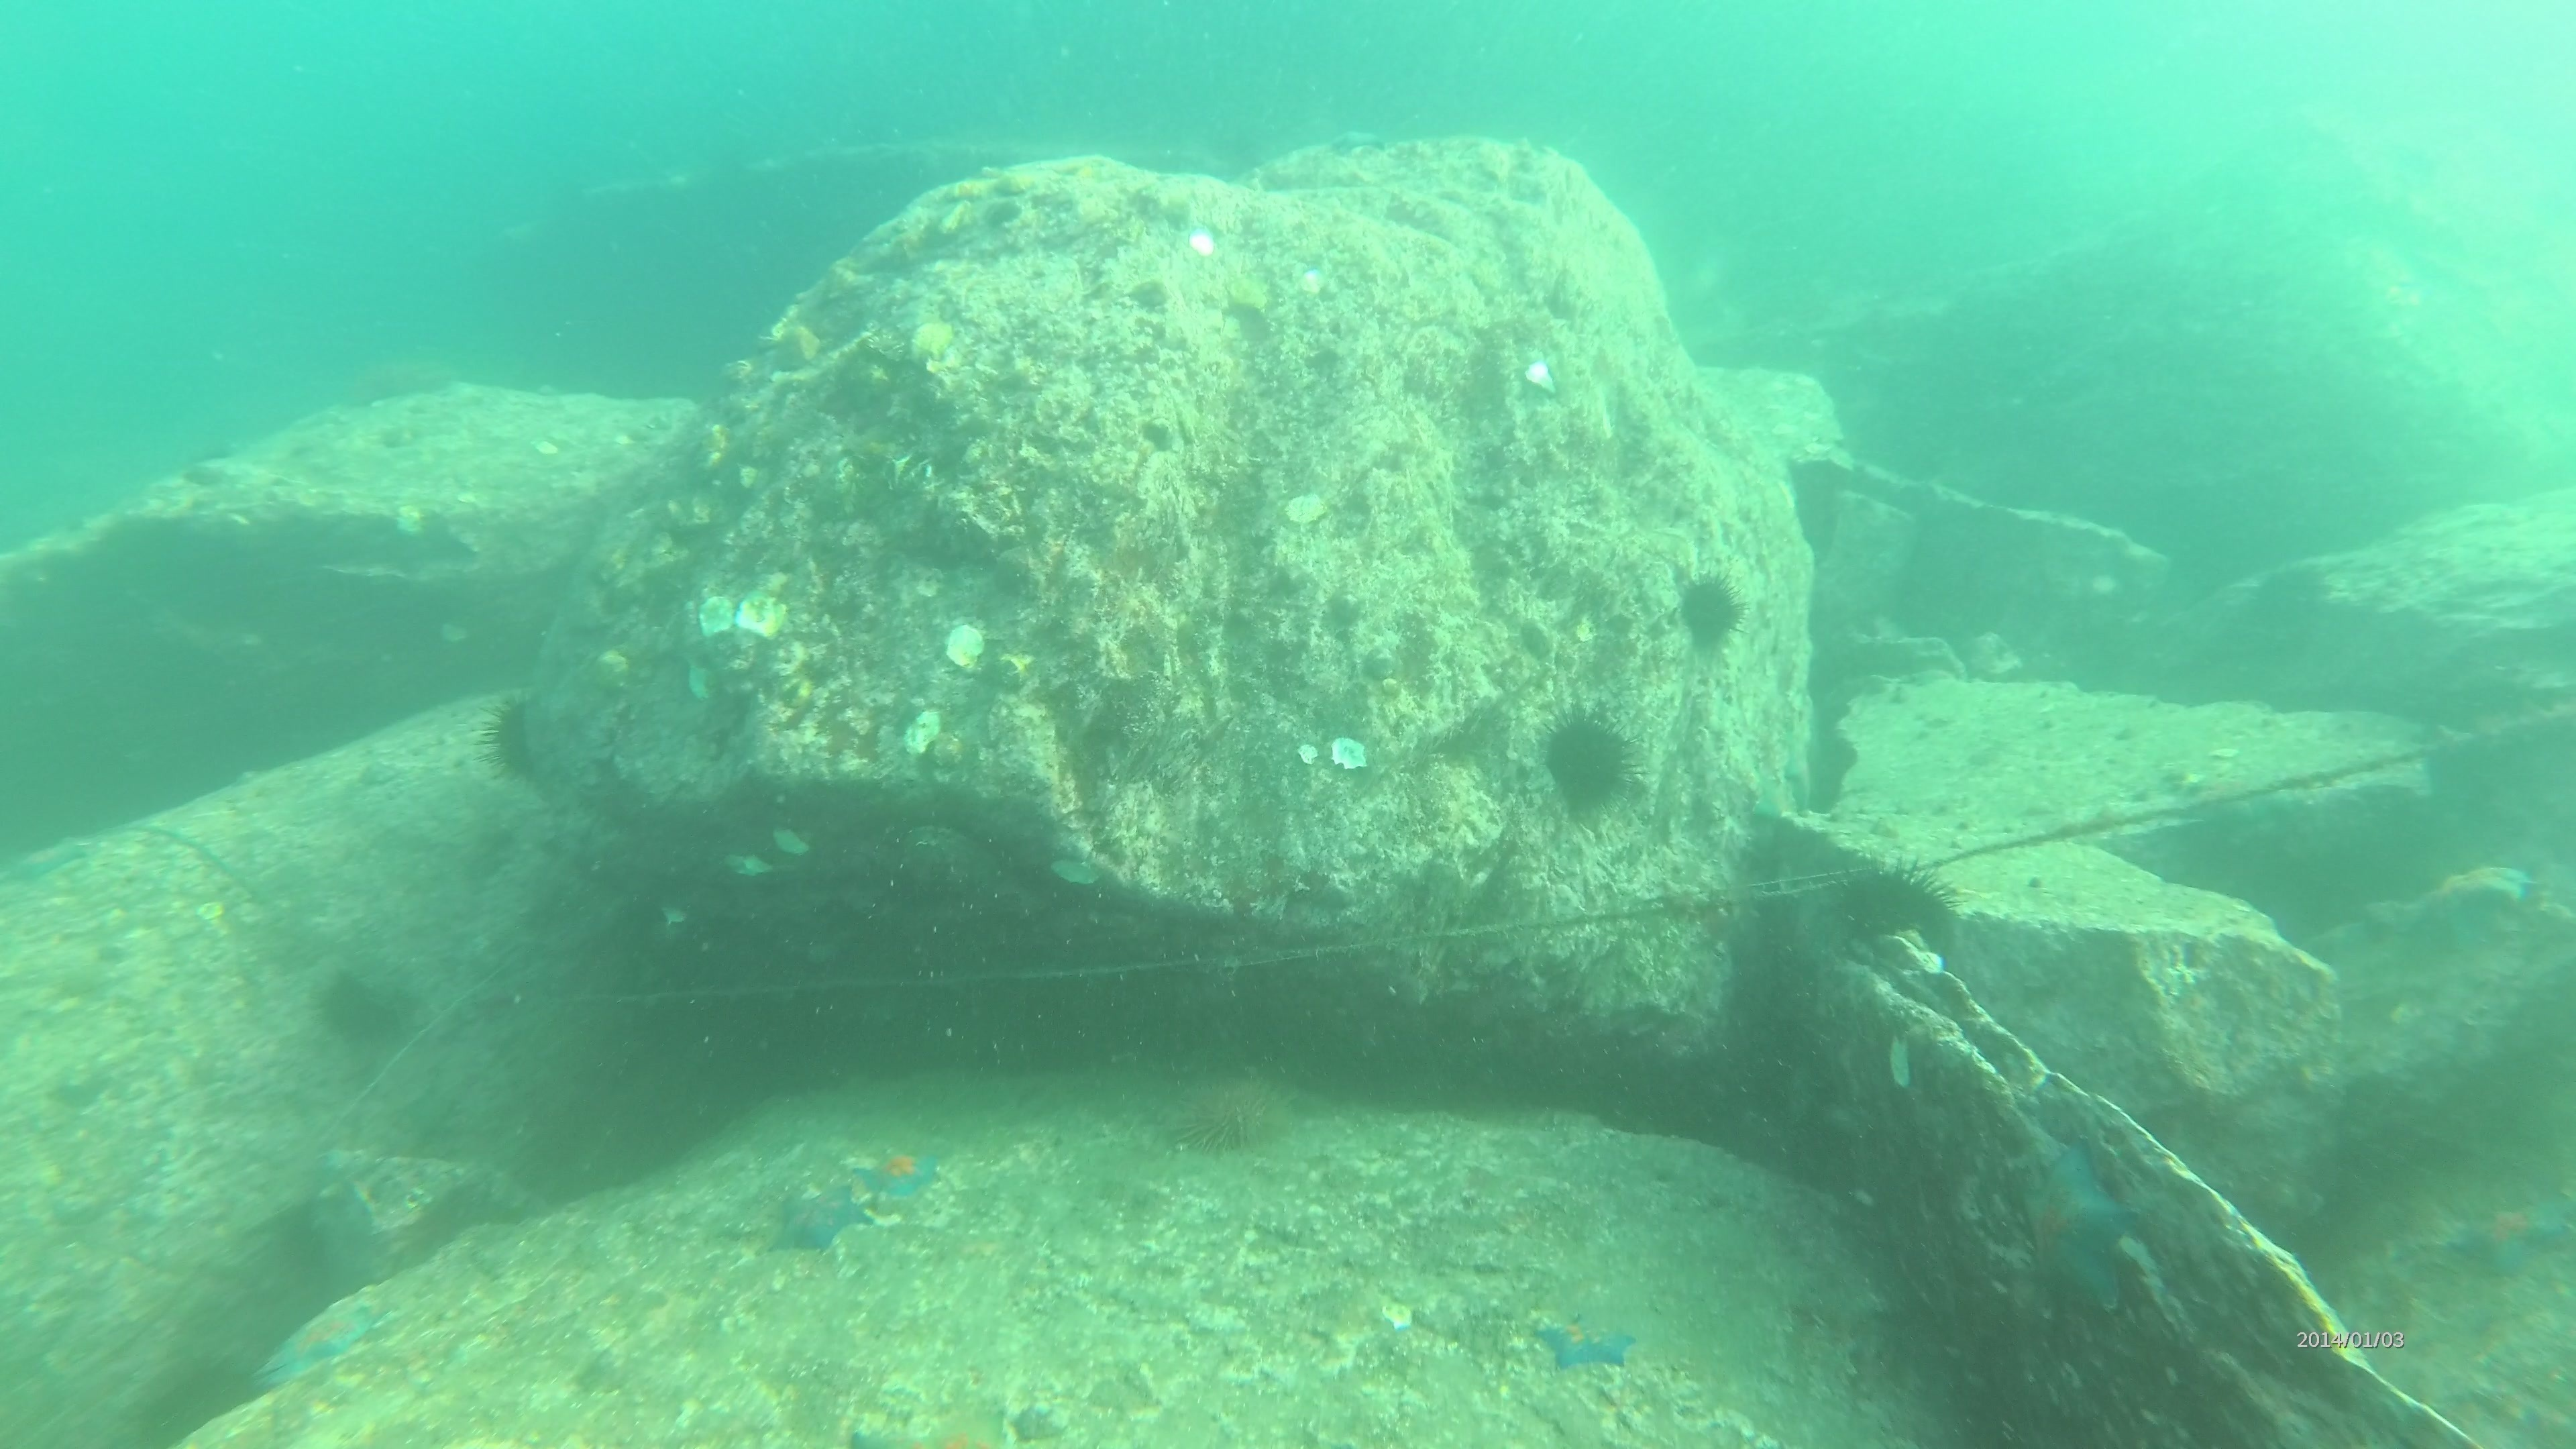echinus: (1819, 855, 1964, 991), (1161, 1065, 1304, 1164), (1532, 701, 1644, 823), (306, 957, 421, 1056), (474, 686, 571, 796), (1667, 563, 1752, 660)
starfish: (2006, 1129, 2151, 1318), (2390, 849, 2539, 955), (249, 1286, 391, 1392), (2442, 1178, 2574, 1283), (844, 1125, 955, 1214), (766, 1175, 878, 1258), (1529, 1304, 1642, 1380)
